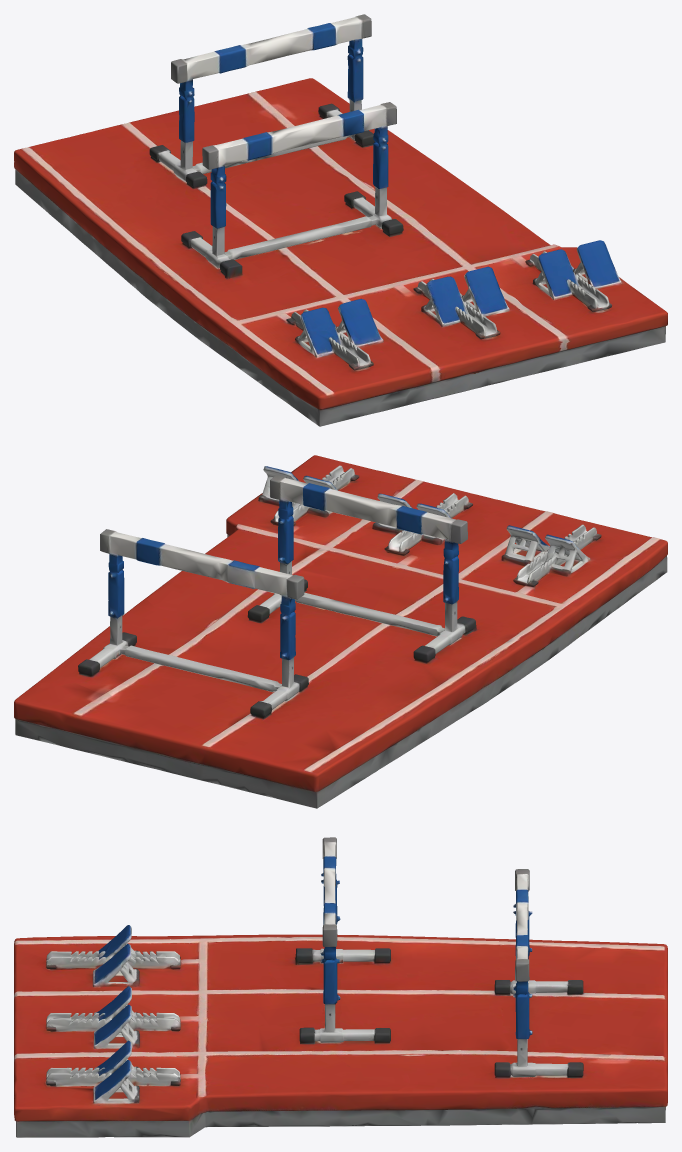
File: hurdles.glb
The picture shows the model from 3 angles, top to bottom: view 1: azimuth 30°, elevation 25°; view 2: azimuth 150°, elevation 25°; view 3: azimuth 270°, elevation 25°; orthographic projection.
Parts seen in each view (by area): view 1: tripo_node_a311ae80-fe27-4bd8-b988-d34238667c83; view 2: tripo_node_a311ae80-fe27-4bd8-b988-d34238667c83; view 3: tripo_node_a311ae80-fe27-4bd8-b988-d34238667c83.
Boxes of the visible parts, box(x1,y1,x2,y2) form: tripo_node_a311ae80-fe27-4bd8-b988-d34238667c83: box(14, 14, 667, 426); tripo_node_a311ae80-fe27-4bd8-b988-d34238667c83: box(14, 455, 667, 808); tripo_node_a311ae80-fe27-4bd8-b988-d34238667c83: box(14, 837, 667, 1137).
Size of the model in its own units: 0.6231 by 0.2577 by 1.
Materials: 1 (1 with a texture image).
